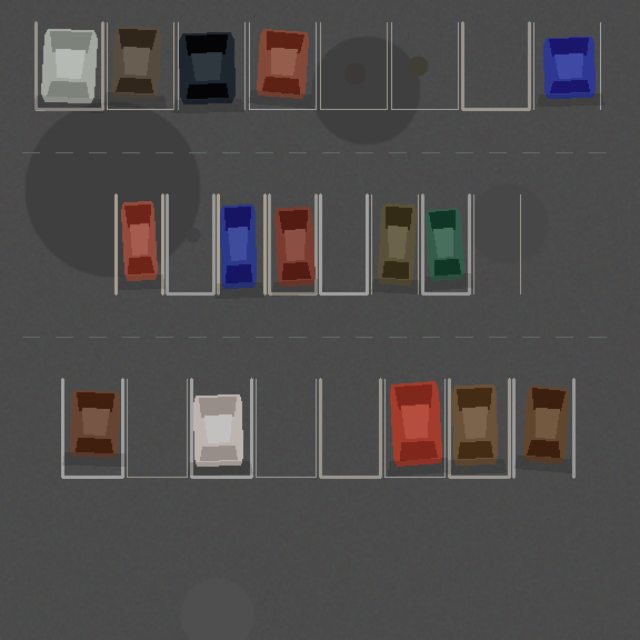space-empty: (127, 379, 187, 477), (256, 379, 316, 477), (320, 379, 380, 477), (320, 22, 387, 109), (391, 22, 458, 109), (462, 22, 529, 109), (320, 194, 367, 293), (473, 194, 520, 293), (167, 194, 213, 293)
space-occupied: (62, 379, 122, 477), (191, 379, 251, 477), (384, 379, 444, 477), (449, 379, 509, 477), (513, 379, 573, 477), (249, 22, 316, 109), (533, 22, 600, 109), (36, 22, 102, 109), (107, 22, 173, 109), (178, 22, 244, 109), (269, 194, 316, 293), (371, 194, 418, 293), (422, 194, 469, 293), (116, 194, 162, 293), (218, 194, 264, 293)
